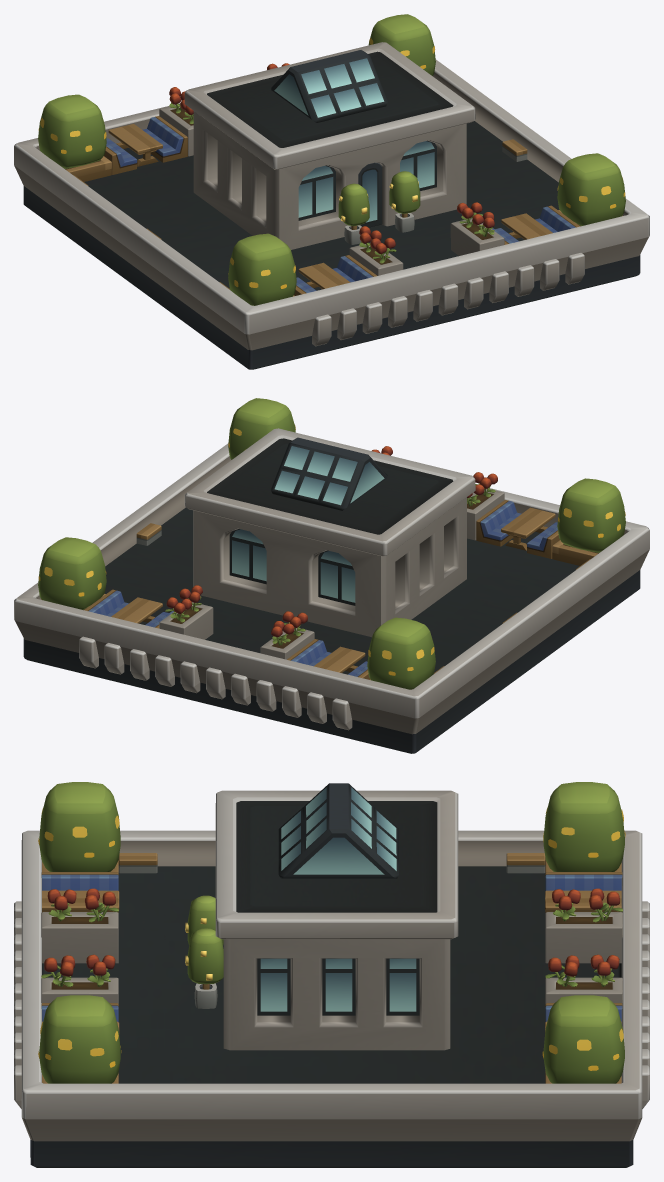
File: office_building_type1_roof_cream_deco.fbx
3 renders of one model, top to bottom at view 1: azimuth 30°, elevation 25°; view 2: azimuth 150°, elevation 25°; view 3: azimuth 270°, elevation 25°, orthographic. The views are drawn at different scales.
Visible parts, largest first — view 1: office_building_type1_roof_cream_deco, door_office_building_type1_roof_cream_deco; view 2: office_building_type1_roof_cream_deco; view 3: office_building_type1_roof_cream_deco.
Boxes of the visible parts, x1,y1,x2,y2 form: office_building_type1_roof_cream_deco: [14, 14, 649, 369]; door_office_building_type1_roof_cream_deco: [358, 162, 382, 227]; office_building_type1_roof_cream_deco: [14, 398, 649, 753]; office_building_type1_roof_cream_deco: [14, 782, 649, 1167].
Size of the model in its own units: 1600 by 671 by 1640.
